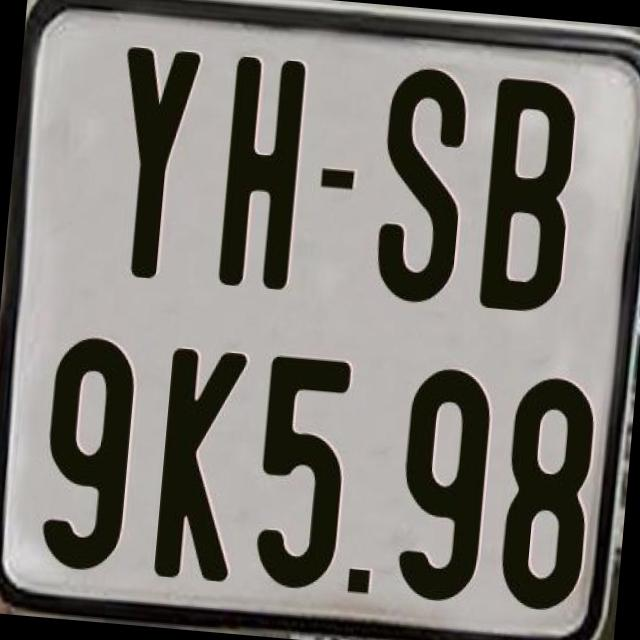5: (248, 352, 356, 593)
8: (494, 369, 602, 613)
9: (388, 362, 496, 610), (36, 332, 144, 571)
B: (478, 76, 586, 314)
H: (216, 56, 310, 296)
K: (153, 346, 253, 586)
S: (370, 60, 475, 308)
Y: (103, 44, 198, 284)
